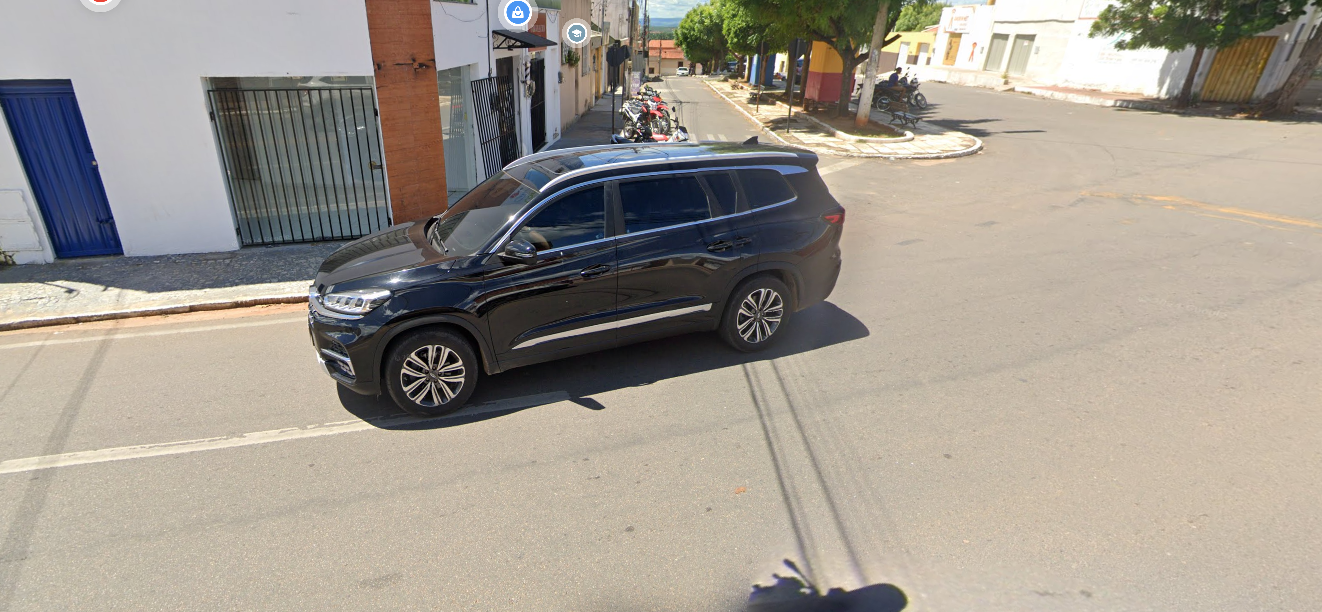car: (294, 129, 852, 428)
